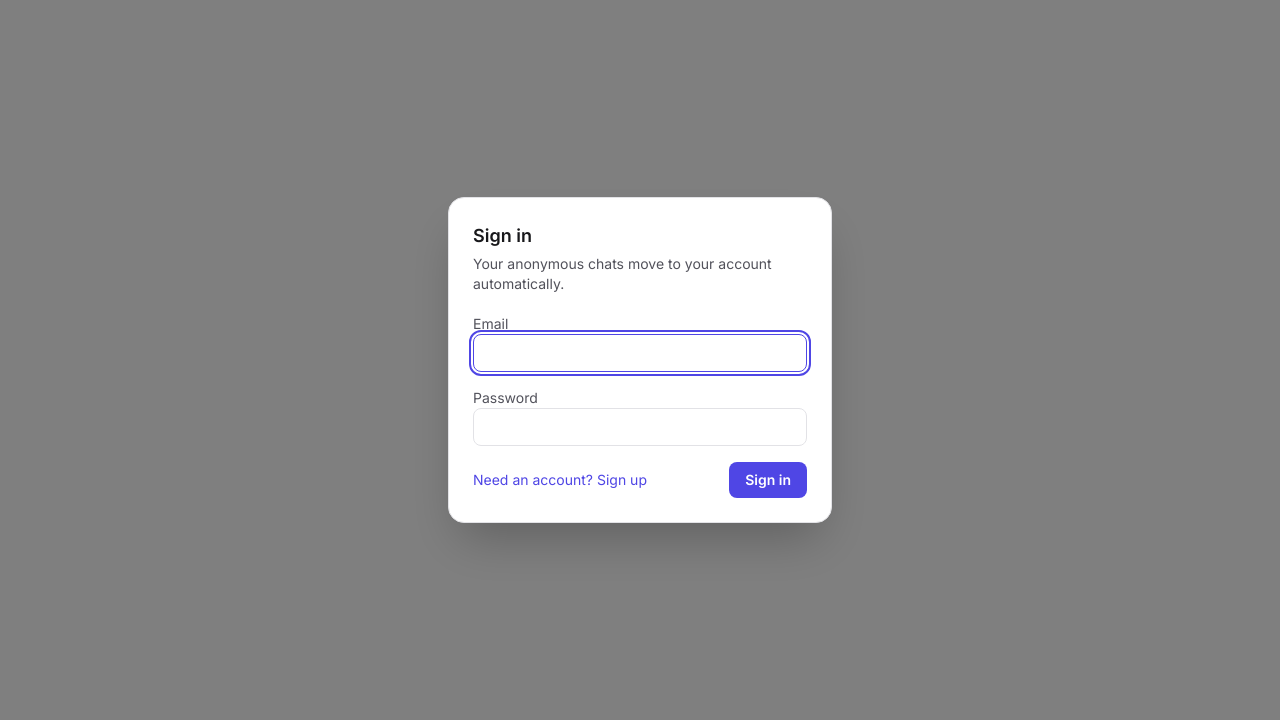
Test case: AuthDialog › shows API errors and can switch to sign up
Type "a@b.co" into the field labelled "Email". click: (640, 353)
box: [473,334,807,372]
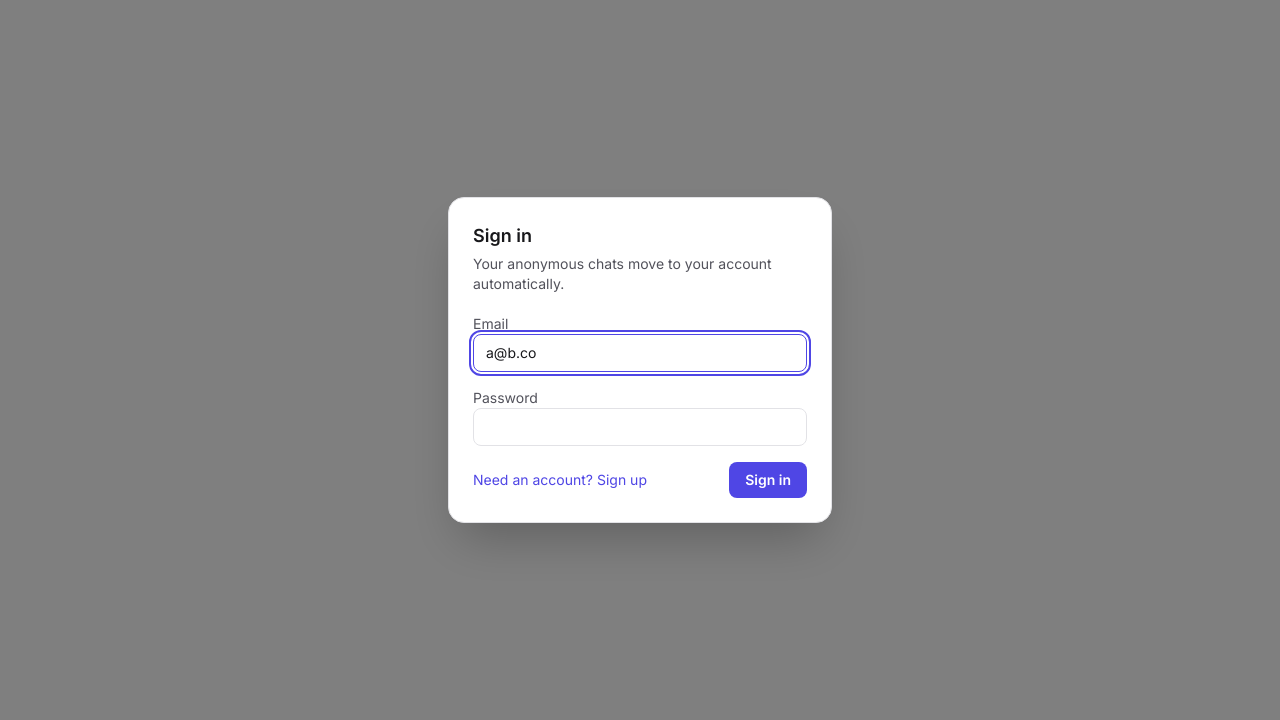
Type "x" into the password field labelled "Password". click: (640, 427)
box: [473,408,807,446]
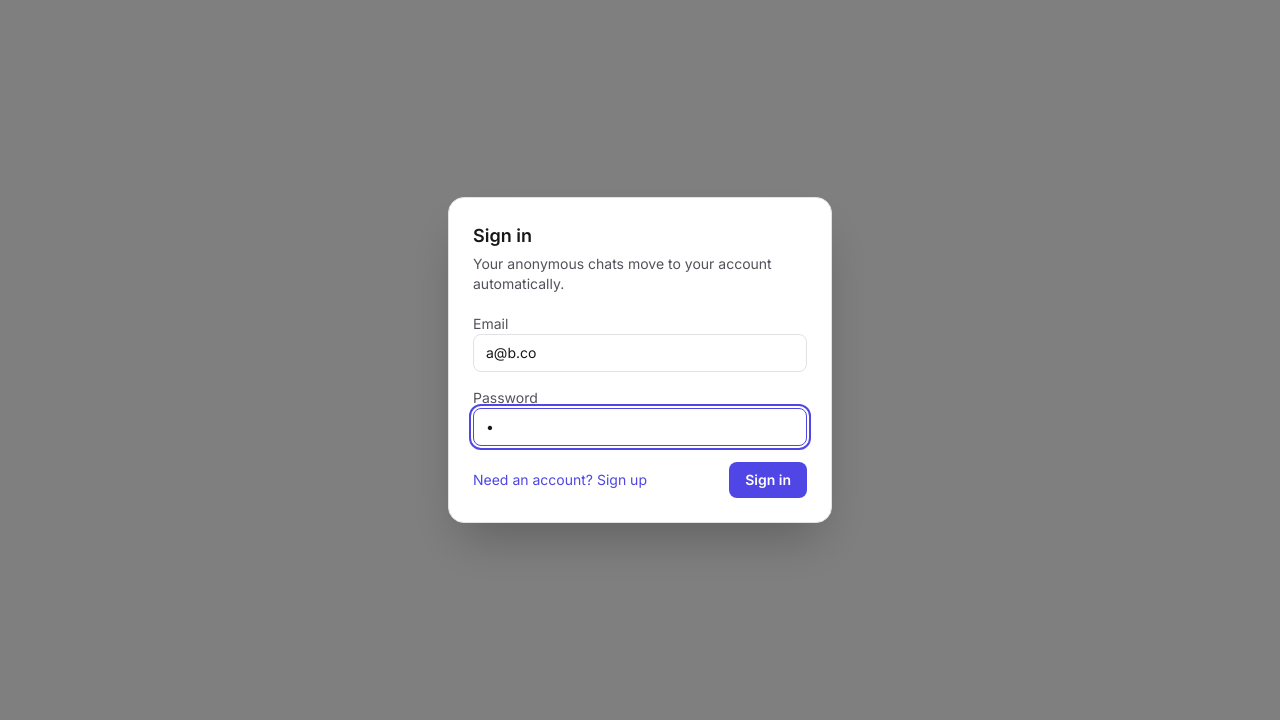
Click the button "Sign in". click: (768, 480)
box: [729,462,807,498]
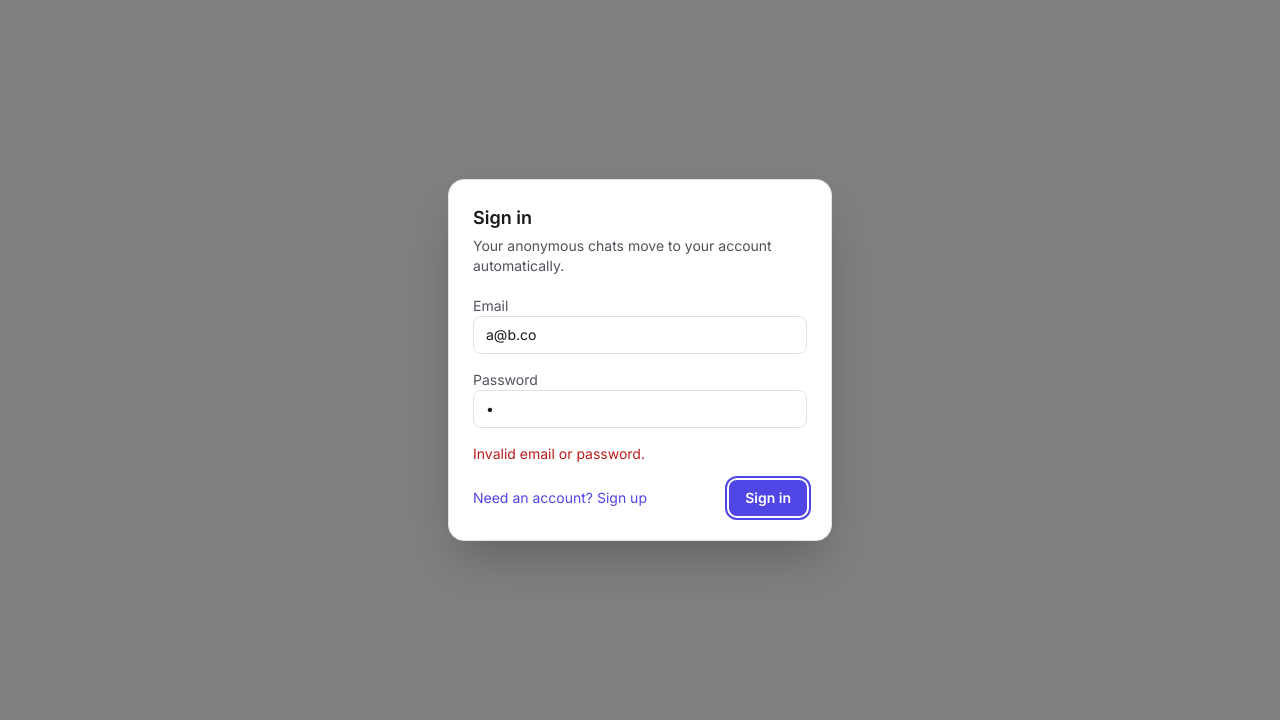
Check: the message reads "Invalid email or password.", box [473,445,645,462]
Click the button "Need an account? Sign up". click: (560, 498)
box: [473,488,647,508]
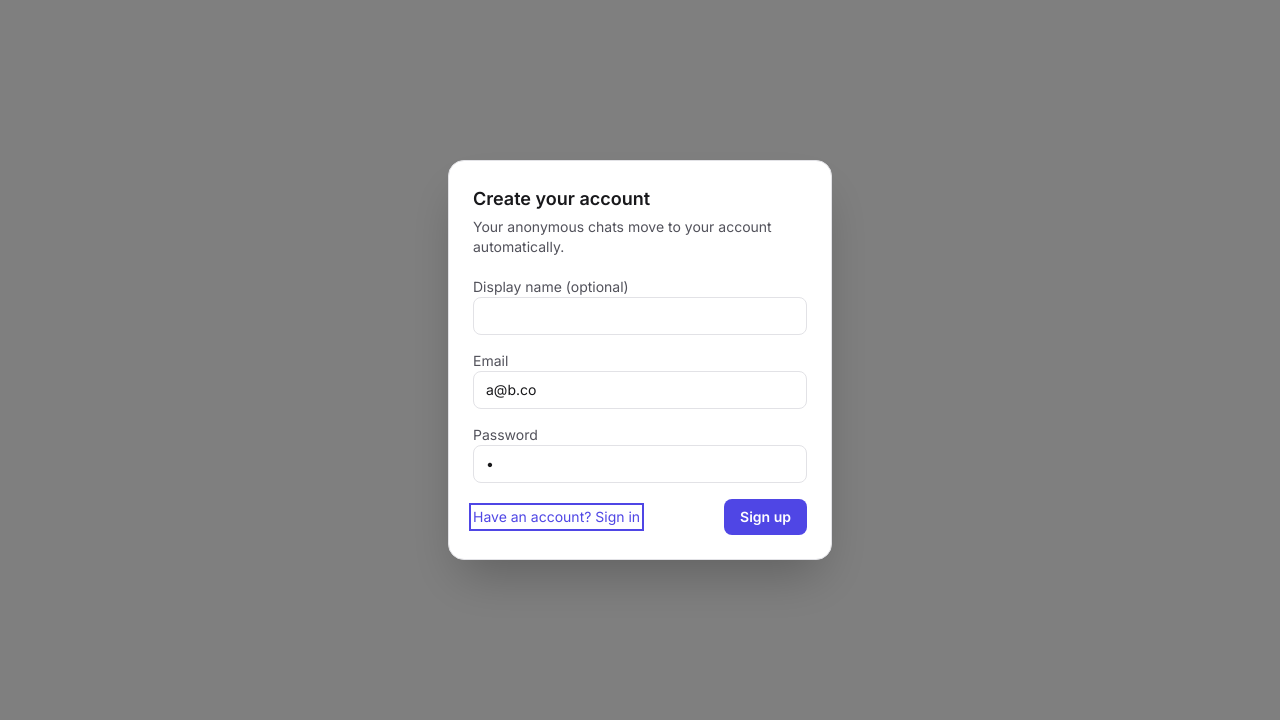
Check: the field labelled "Display name (optional)" is shown, box [473,297,807,335]
